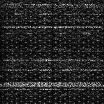lte: (1, 82, 104, 87), (1, 24, 104, 29), (1, 57, 104, 62), (1, 67, 104, 72)
